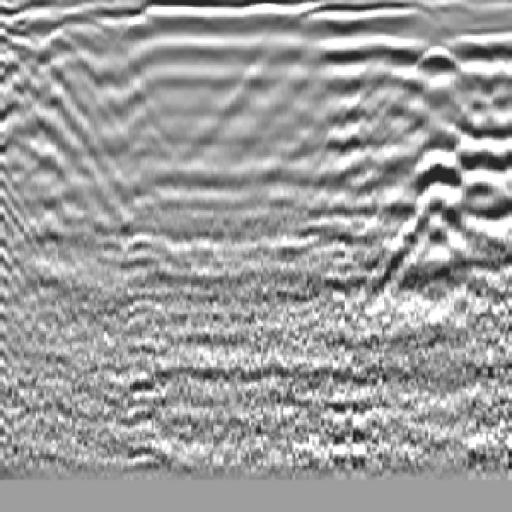non-metallic: (339, 26, 512, 261)
